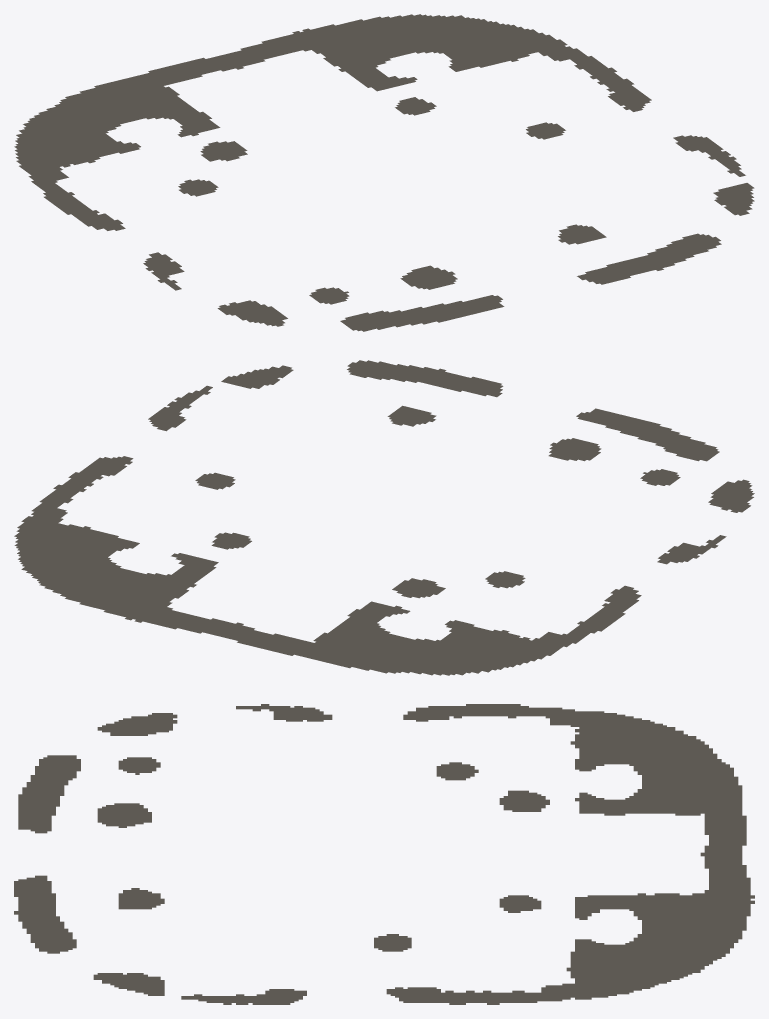
File: Map-4-NoBuildArea.fbx
3 views of the same model, one above another, from view 1: azimuth 30°, elevation 25°; view 2: azimuth 150°, elevation 25°; view 3: azimuth 270°, elevation 25° (orthographic). The views are drawn at different scales.
Parts seen in each view (by area): view 1: Map-4-NoBuildArea; view 2: Map-4-NoBuildArea; view 3: Map-4-NoBuildArea.
Boxes of the visible parts, left/top/right/bottom form: Map-4-NoBuildArea: left=14, top=14, right=754, bottom=331; Map-4-NoBuildArea: left=14, top=360, right=754, bottom=675; Map-4-NoBuildArea: left=14, top=704, right=754, bottom=1004.
Bounding box in the file's own units: 170 × 0 × 177.
